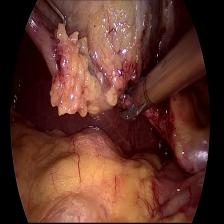Clipper: (111, 68, 152, 128)
Grasper: (25, 0, 79, 34)
